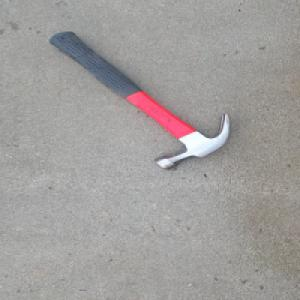Hammer: (52, 29, 233, 170)
